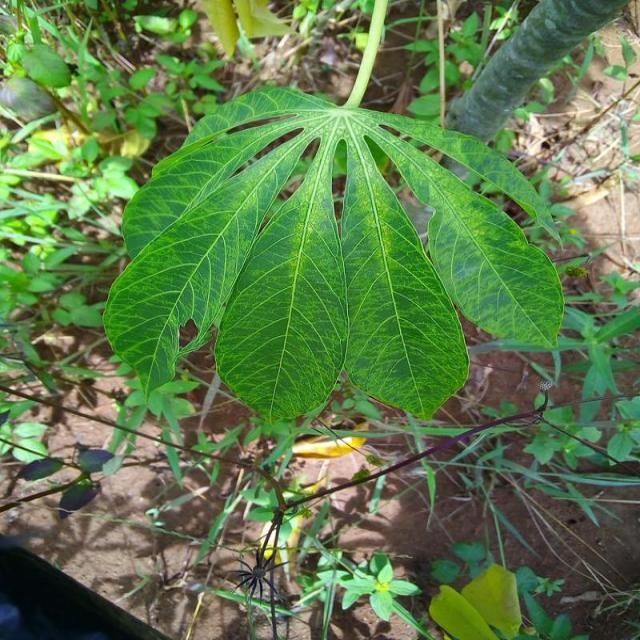cassava leaf: (101, 1, 566, 429), (212, 129, 350, 427), (338, 116, 471, 422)
